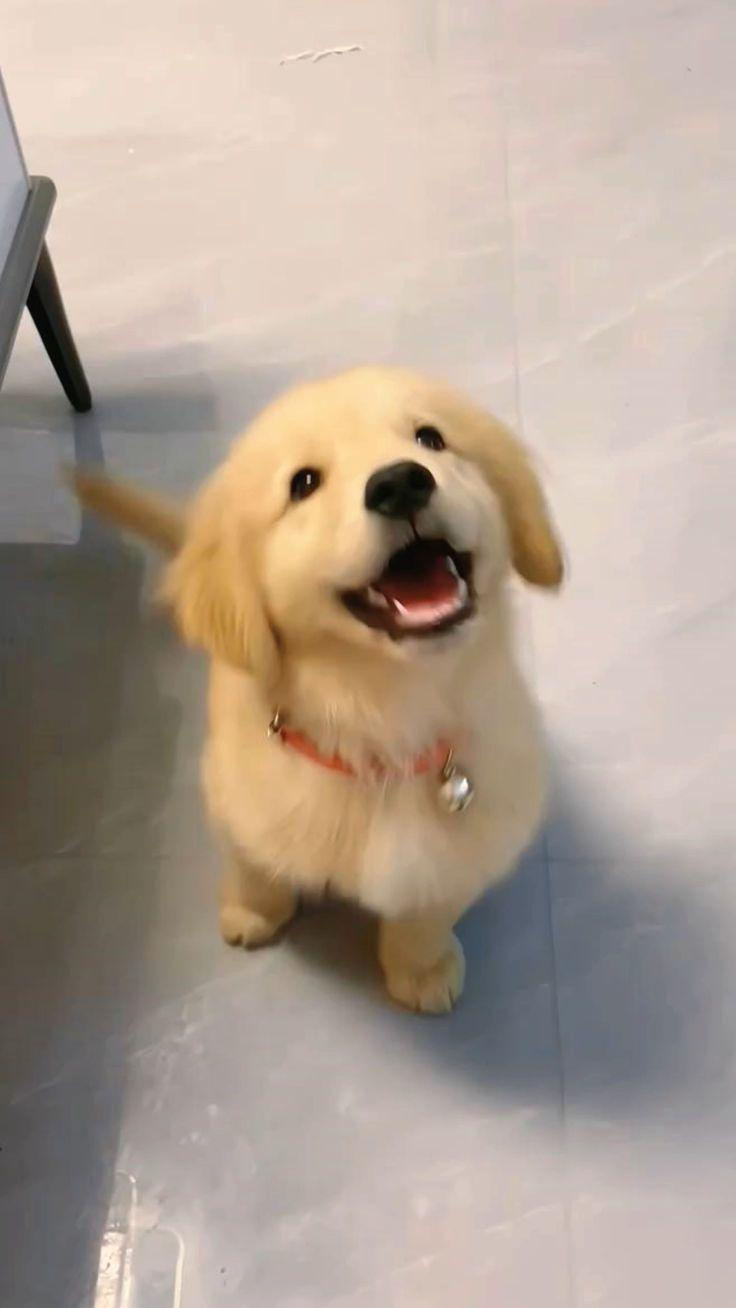puppy-dog: (70, 368, 571, 1016)
